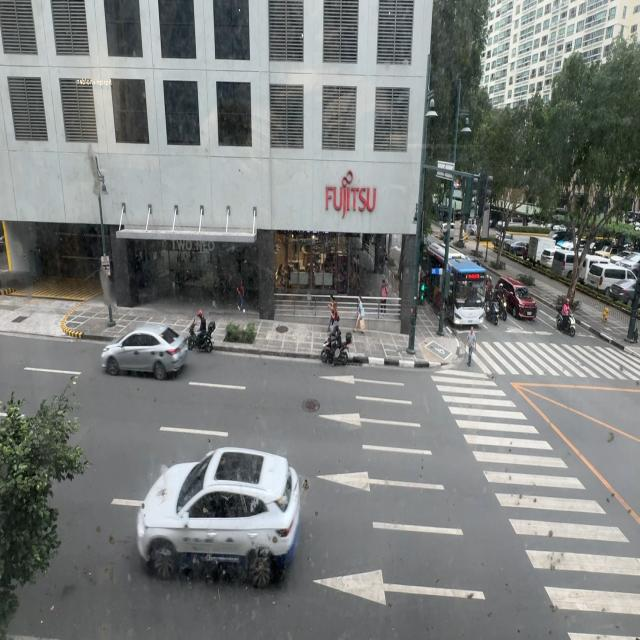crossing: (465, 326, 477, 366)
pedestrain: (353, 294, 366, 333), (326, 295, 337, 336)
